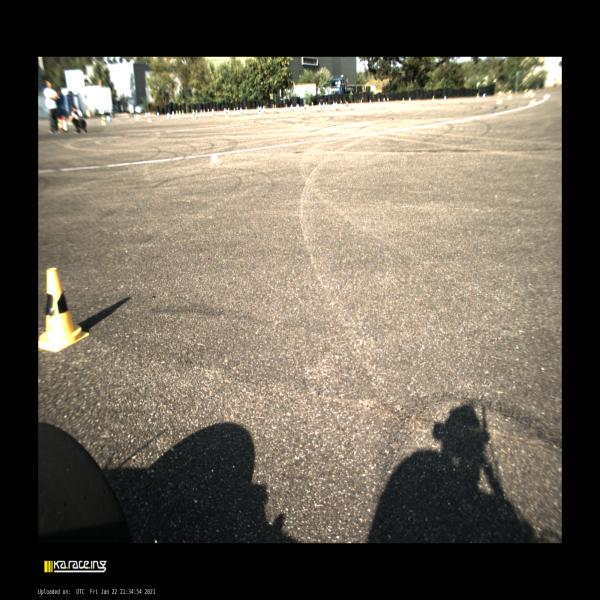yellow_cone: (38, 268, 89, 352)
